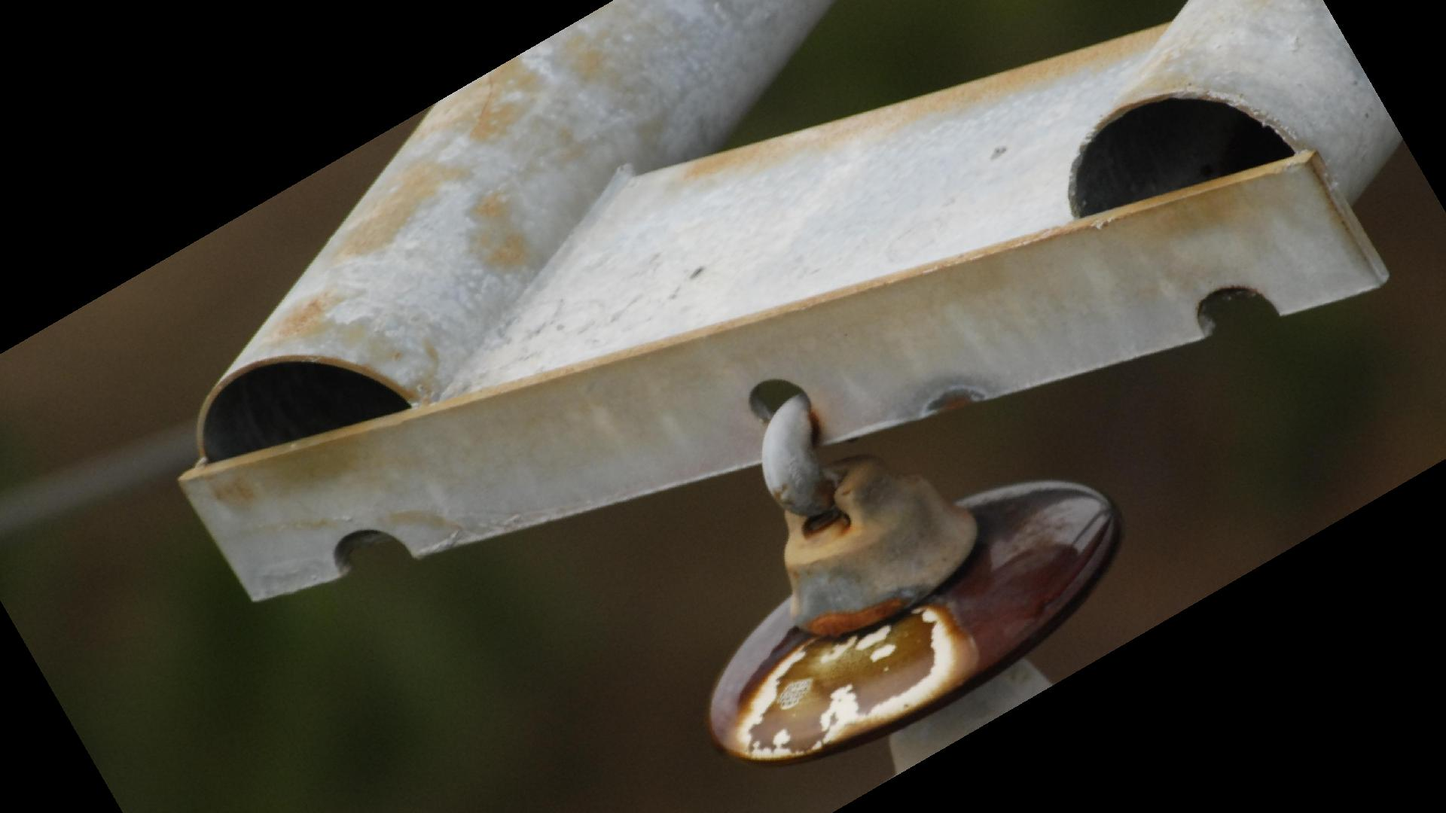insulator: (702, 470, 1130, 771)
insulator_flashover: (727, 593, 984, 766)
